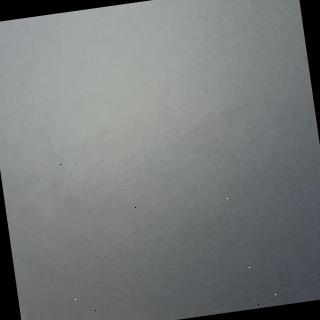fire: (20, 311, 40, 320)
